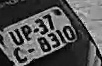0: (63, 24, 75, 40)
1: (57, 28, 67, 45)
3: (34, 18, 49, 35), (48, 32, 59, 49)
7: (43, 13, 54, 30)
8: (38, 36, 51, 54)
C: (12, 47, 27, 64)
P: (21, 23, 34, 42)
U: (10, 28, 25, 47)
